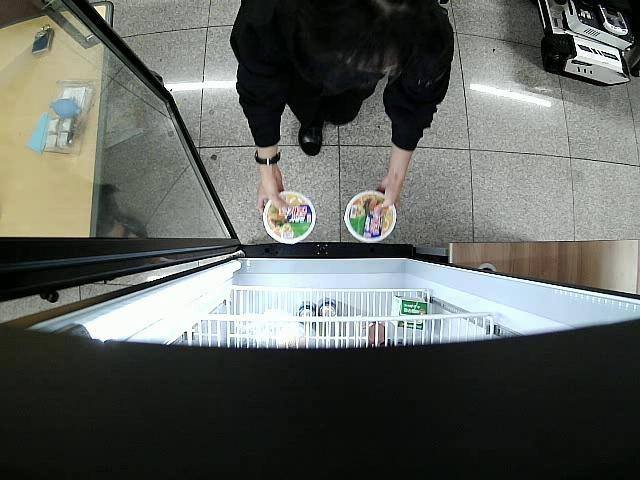09_yukGaeJang: (264, 190, 318, 244), (346, 192, 398, 244)
